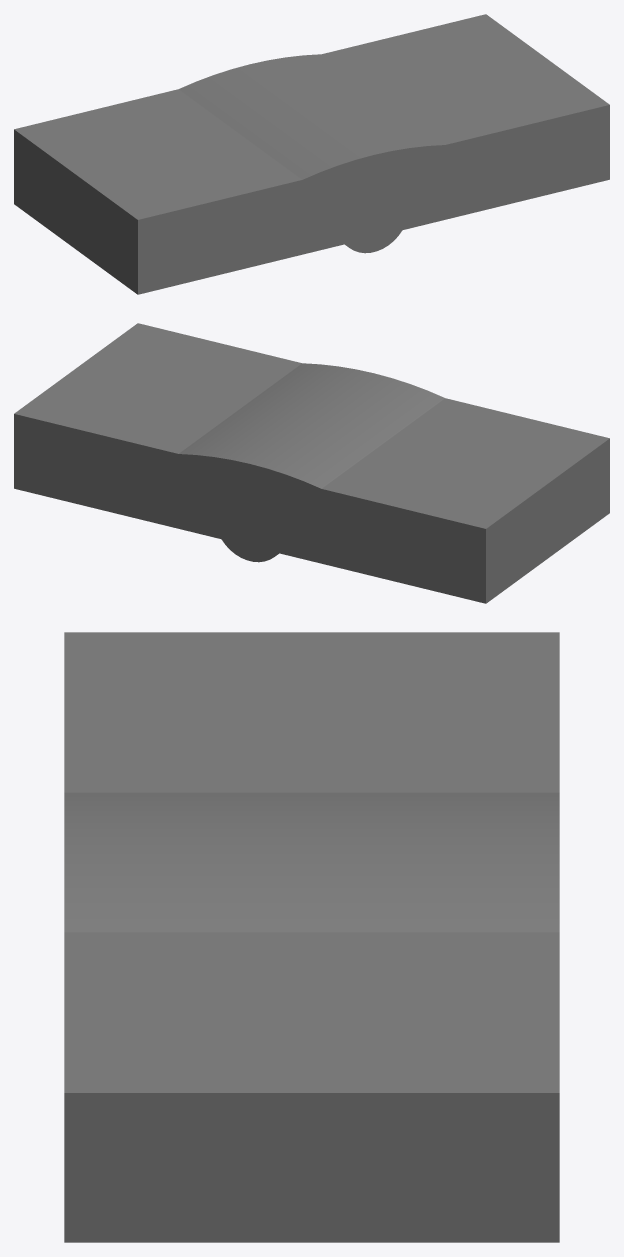
3 views of the same model, one above another, from view 1: azimuth 30°, elevation 25°; view 2: azimuth 150°, elevation 25°; view 3: azimuth 270°, elevation 25° (orthographic). The views are drawn at different scales.
Parts seen in each view (by area): view 1: mesh_id4, mesh_id5; view 2: mesh_id4, mesh_id5; view 3: mesh_id4, mesh_id5.
Boxes of the visible parts, bbox=[...] form: mesh_id4: bbox=[14, 14, 609, 294]; mesh_id5: bbox=[179, 54, 445, 253]; mesh_id4: bbox=[14, 323, 609, 603]; mesh_id5: bbox=[178, 363, 444, 562]; mesh_id4: bbox=[64, 632, 559, 1242]; mesh_id5: bbox=[64, 792, 559, 932].
Size of the model in its own units: 0.512 by 0.1007 by 0.2327.
Materials: 2 (2 with a texture image).
